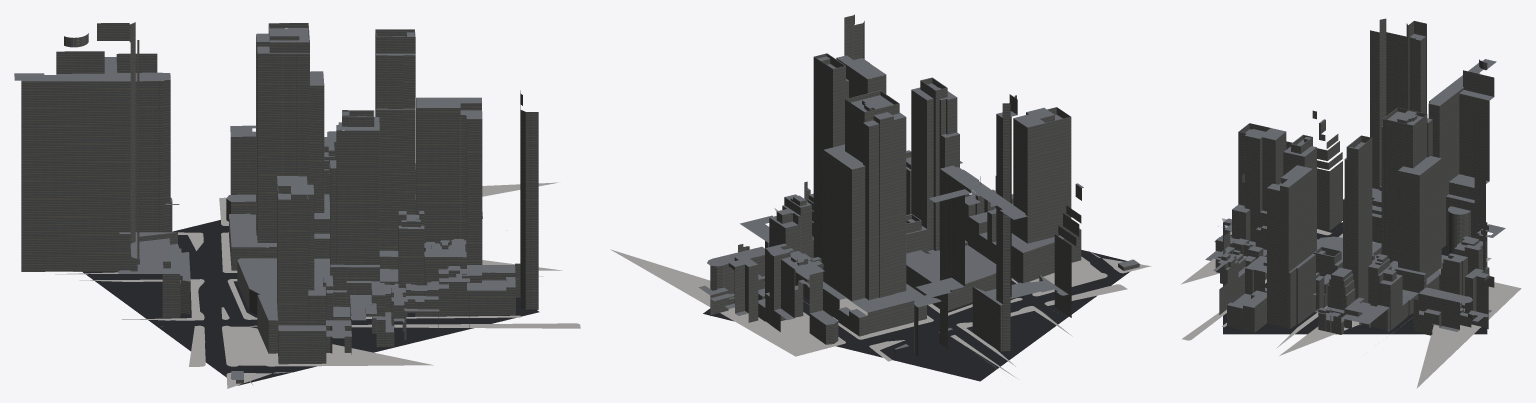
3 renders of one model, left to right at view 1: azimuth 30°, elevation 25°; view 2: azimuth 150°, elevation 25°; view 3: azimuth 270°, elevation 25°, orthographic. The views are drawn at different scales.
Parts seen in each view (by area): view 1: t3_5, detail; view 2: t3_5, detail; view 3: t3_5, detail.
Boxes of the visible parts, bbox=[...] form: t3_5: bbox=[14, 22, 539, 385]; detail: bbox=[43, 182, 580, 388]; t3_5: bbox=[699, 14, 1139, 381]; detail: bbox=[610, 208, 1151, 379]; t3_5: bbox=[1205, 18, 1505, 335]; detail: bbox=[1181, 218, 1521, 388].
Size of the model in its own units: 414 by 215 by 323.
4 materials, 2 textured.
